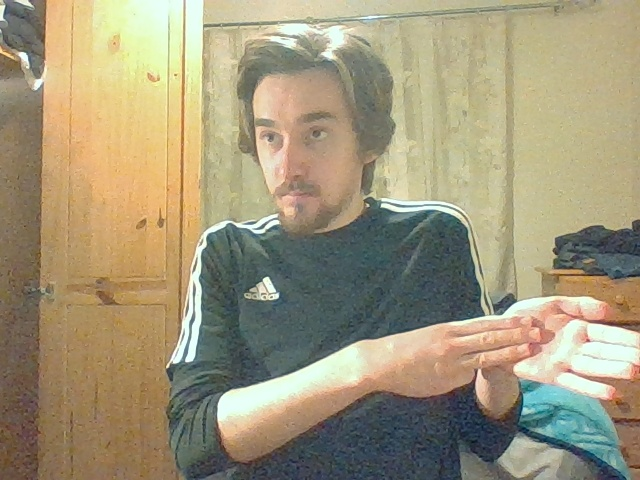mother: (485, 296, 640, 400)
